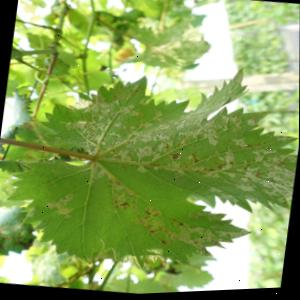Folha: (0, 40, 300, 294), (0, 203, 39, 263)
Fungo: (132, 206, 250, 260), (132, 143, 250, 189), (72, 96, 137, 159), (228, 153, 298, 206), (138, 115, 197, 154), (189, 113, 250, 150), (101, 170, 143, 207), (103, 81, 143, 107), (0, 217, 27, 254), (43, 192, 76, 219), (83, 160, 111, 184), (273, 134, 299, 150), (13, 235, 33, 252), (72, 99, 92, 112), (114, 201, 129, 212), (97, 66, 106, 73)
